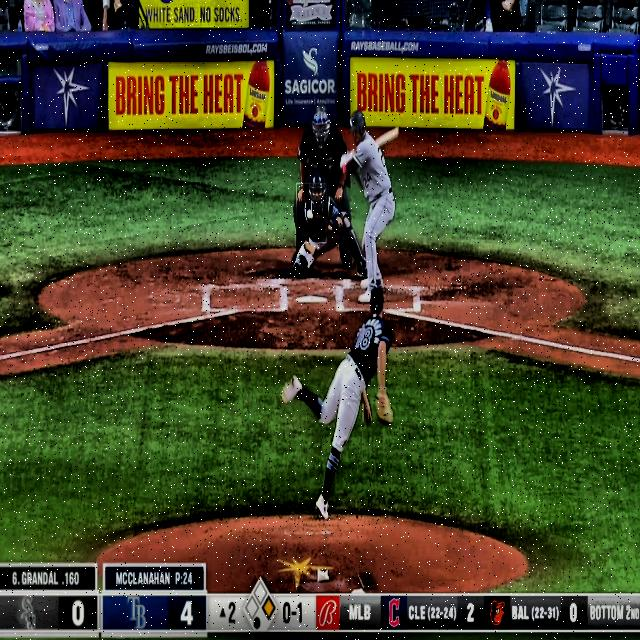baseball: (307, 209, 313, 220)
